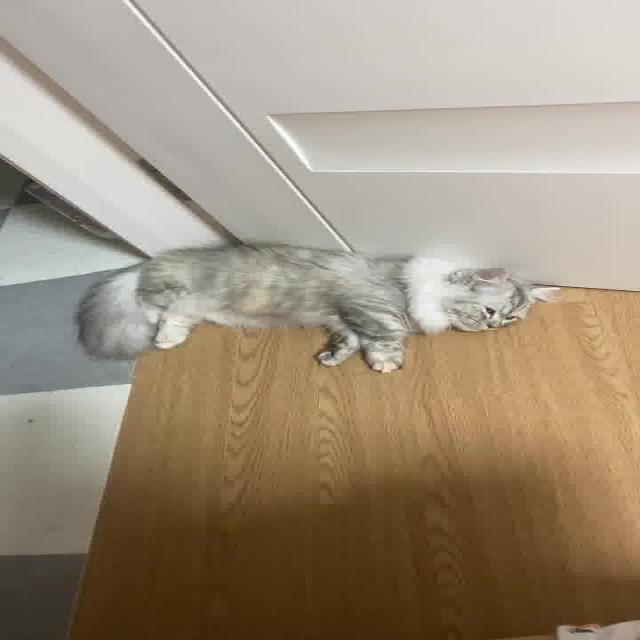cat: (50, 229, 575, 382)
